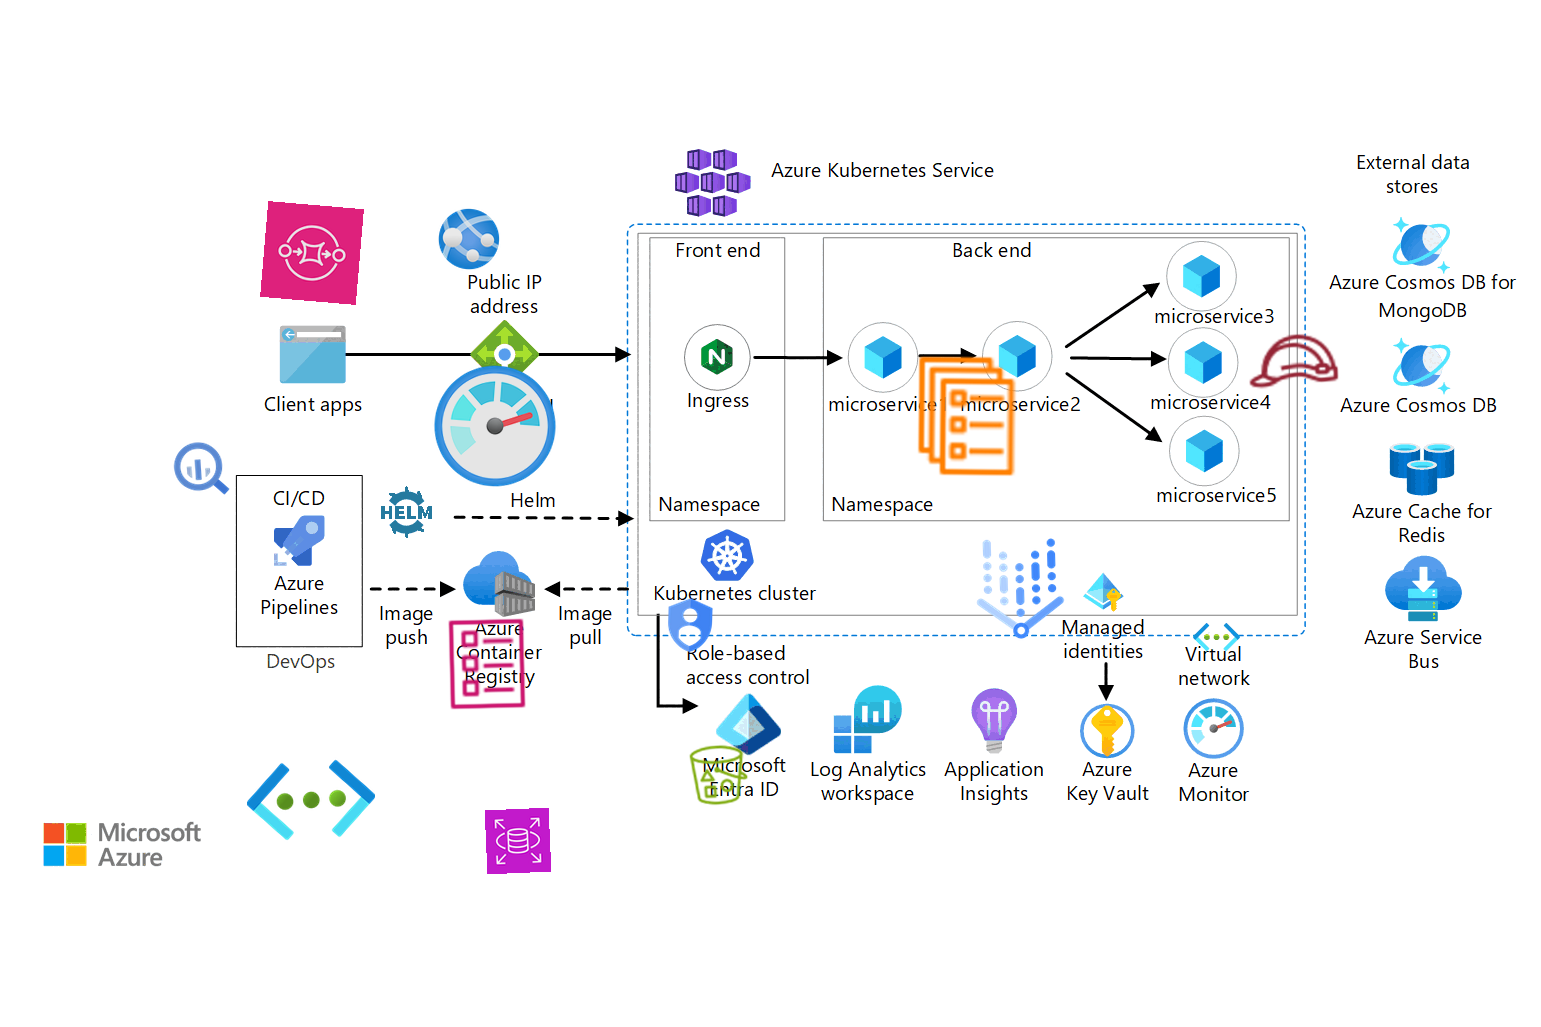aws_amazon_rds: (483, 807, 552, 875)
aws_amazon_simple_queue_service: (260, 201, 364, 305)
aws_cloudformation_template: (437, 614, 536, 714)
aws_elastic_container_service_service: (902, 351, 1032, 481)
aws_identity_access_management_role: (1242, 309, 1344, 411)
aws_simple_storage_service_bucket_with_objects: (685, 740, 753, 809)
azure_app_services: (437, 206, 502, 272)
azure_monitor: (426, 356, 564, 495)
azure_virtual_networks: (243, 732, 379, 868)
gcp_bigquery: (167, 436, 235, 503)
gcp_identity_and_access_management: (657, 591, 724, 659)
gcp_vertex_ai: (954, 523, 1086, 654)
